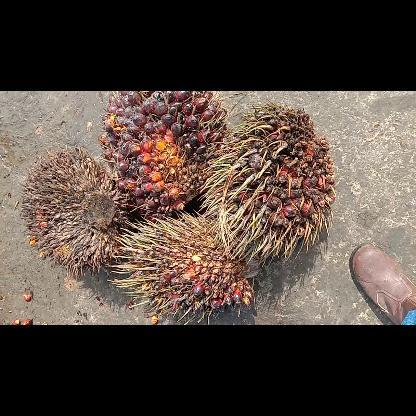Kurang masak: (206, 104, 336, 260)
TBS abnormal: (113, 210, 256, 322), (20, 146, 124, 272)
Terlalu masak: (98, 91, 228, 215)
